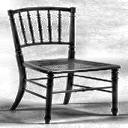chair_success: (2, 3, 122, 126)
